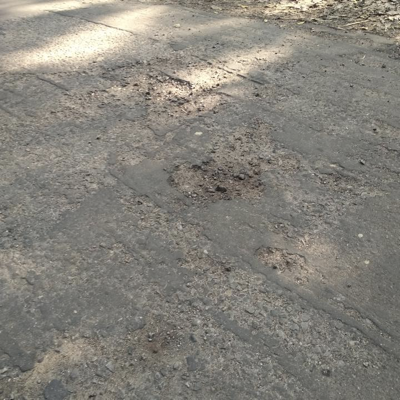pothole: (167, 158, 269, 209), (143, 76, 224, 124), (254, 245, 308, 275)
